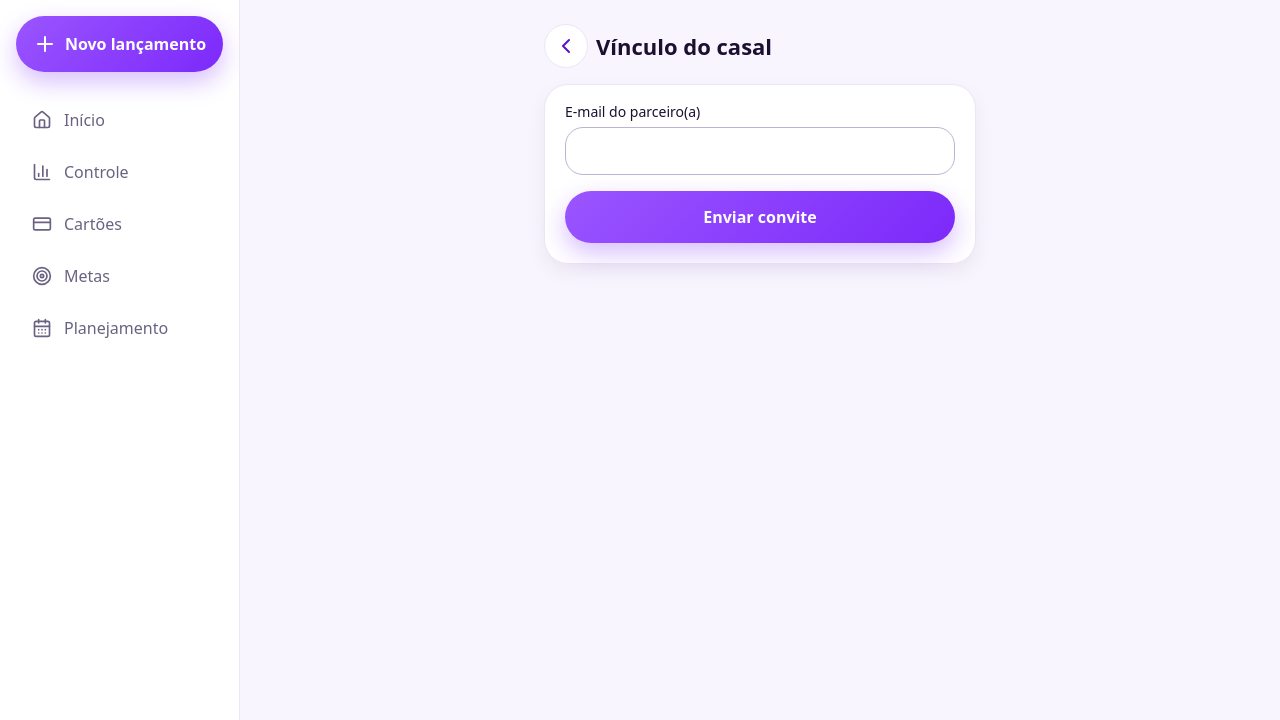
Test: Vinculo - ações › enviar convite envia o e-mail sem espaços, limpa o campo e recarrega o estado
The image size is (1280, 720).
Type "bruno@exemplo.com" into the field labelled "E-mail do parceiro(a)" at (760, 151), box [565,127,955,175]
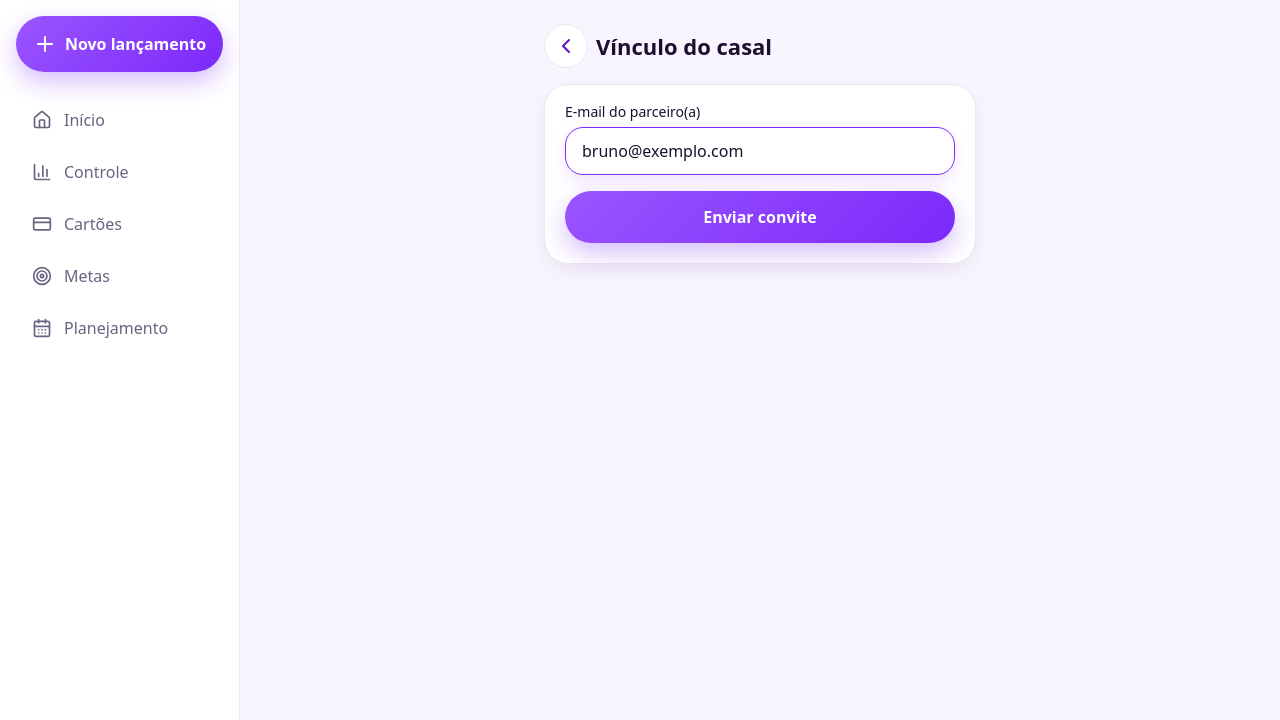
Click the button "Enviar convite" at (760, 217), box [565,191,955,243]
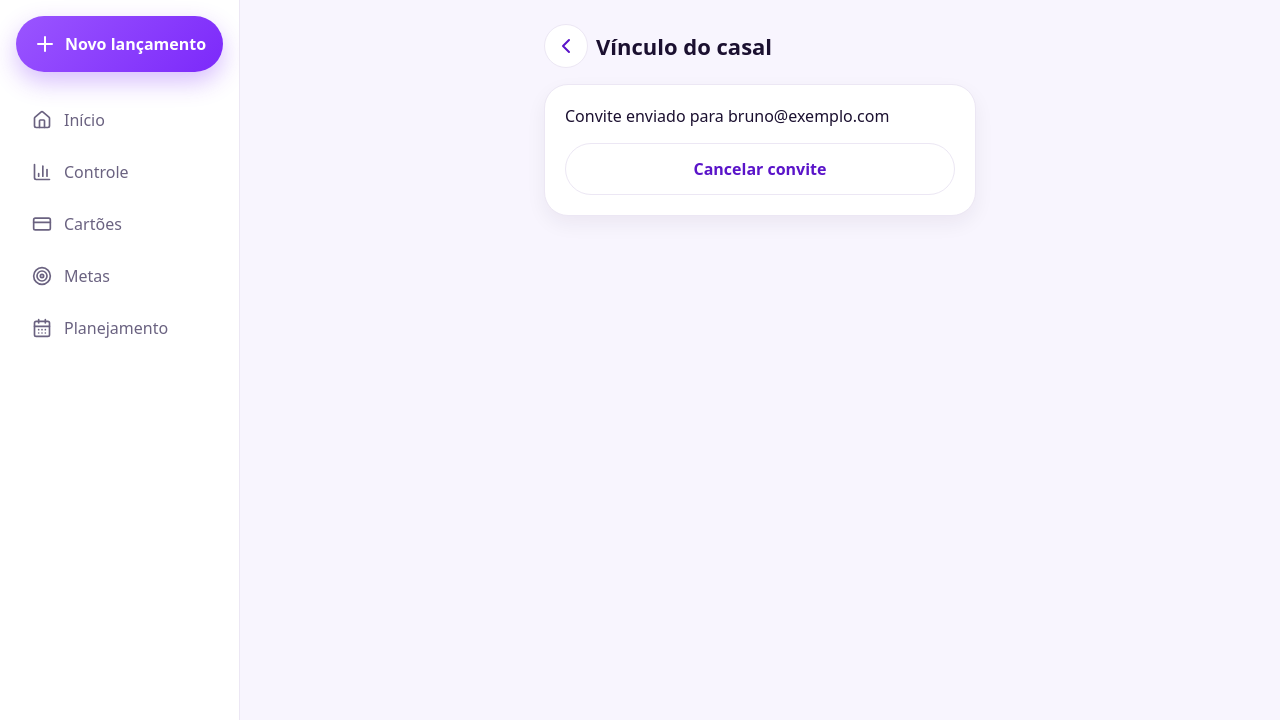
Now the text "Convite enviado para bruno@exemplo.com" is shown, box [565,105,889,127]
